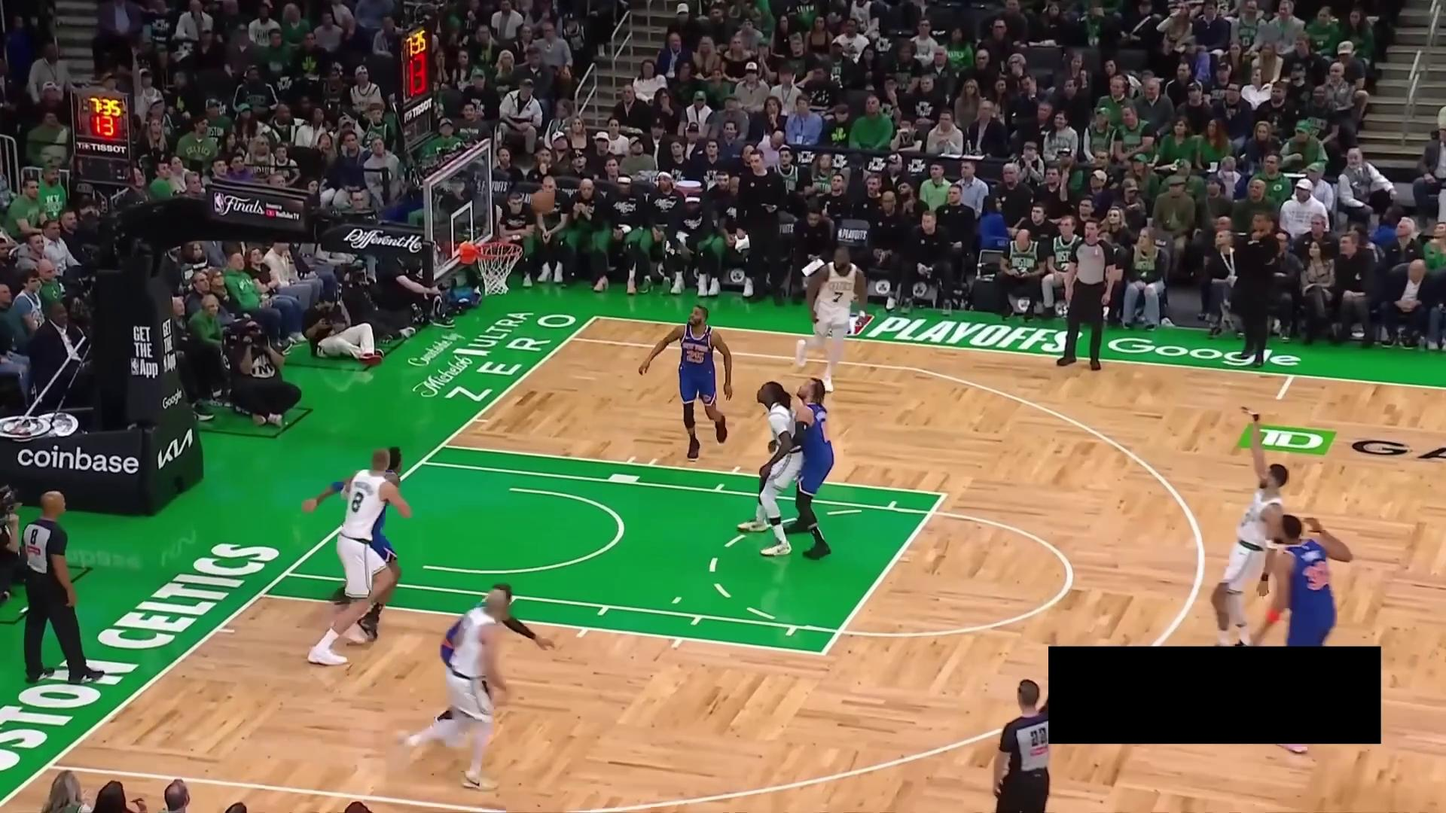ball: (530, 190, 554, 214)
number: (1303, 560, 1332, 591), (350, 491, 364, 513), (685, 349, 705, 364), (831, 290, 844, 304)
player: (1250, 512, 1353, 756), (307, 449, 413, 666), (396, 588, 508, 793), (432, 583, 556, 747), (300, 446, 403, 642), (1208, 408, 1291, 646), (637, 303, 734, 462), (737, 379, 804, 558), (794, 243, 868, 394), (782, 373, 836, 560)
referee: (18, 491, 106, 685), (983, 678, 1056, 813), (1055, 217, 1118, 372)
rim: (474, 241, 524, 260)
